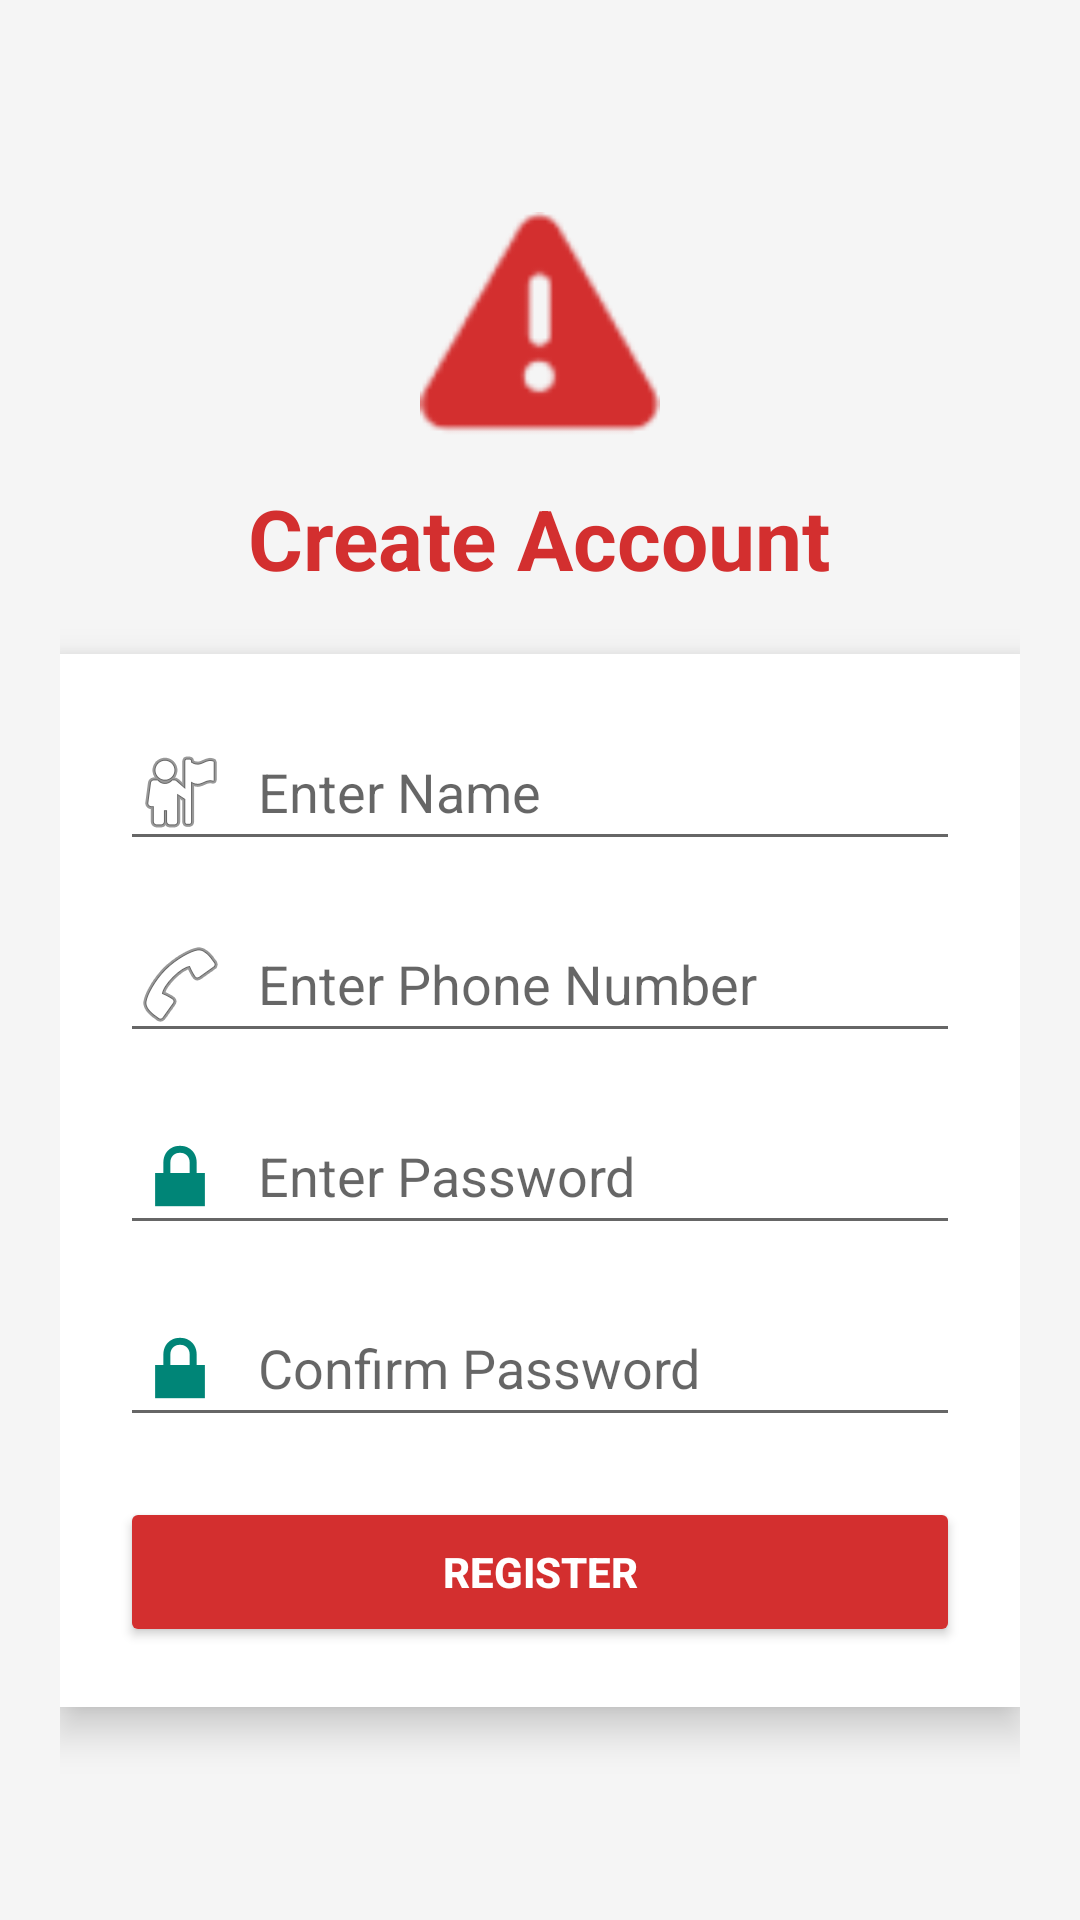

Named icons in this screenshot (1080px×1920px) and their bounding boxes, (x1, y1, x2, y2):
alert: (420, 212, 660, 431)
